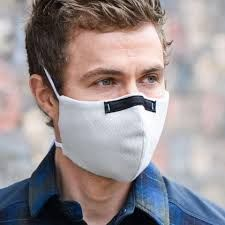with-mask: (29, 3, 171, 187)
